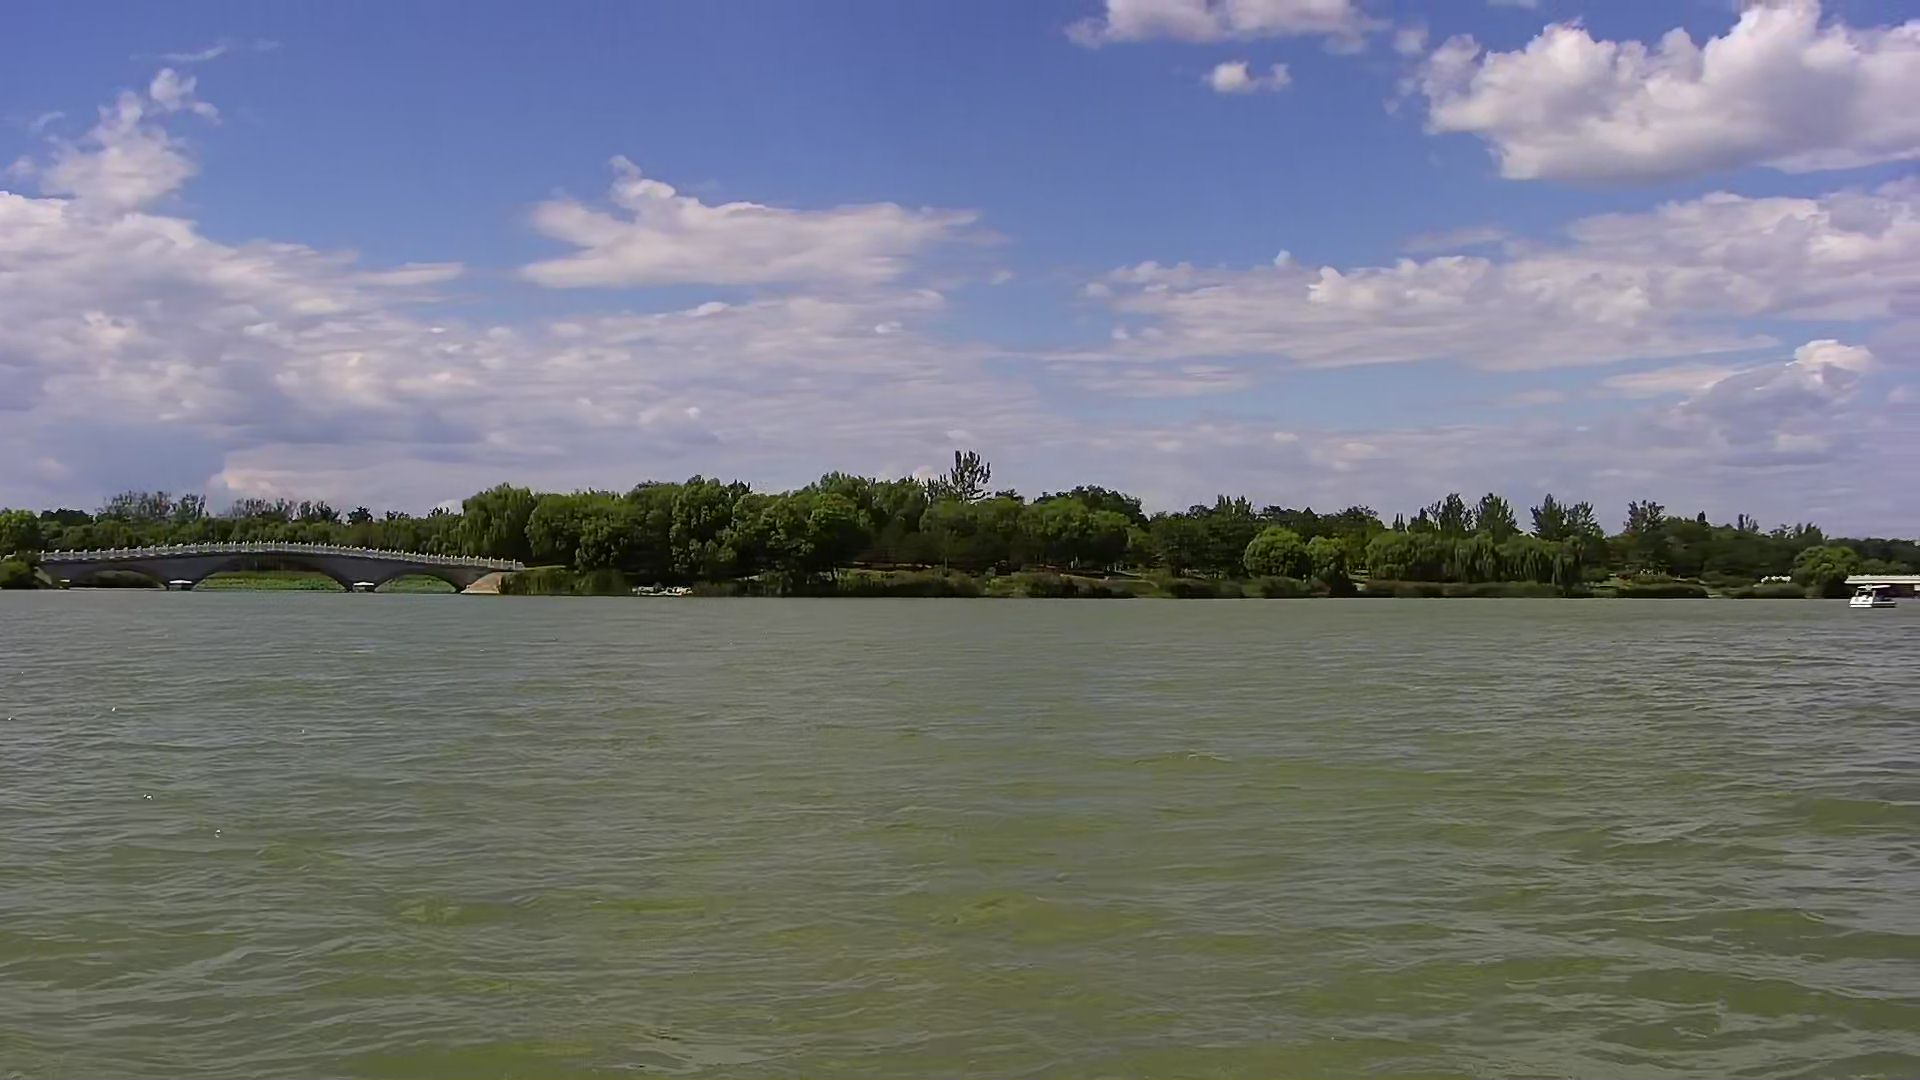boat: (1847, 574, 1903, 618)
bridge: (32, 534, 527, 607)
